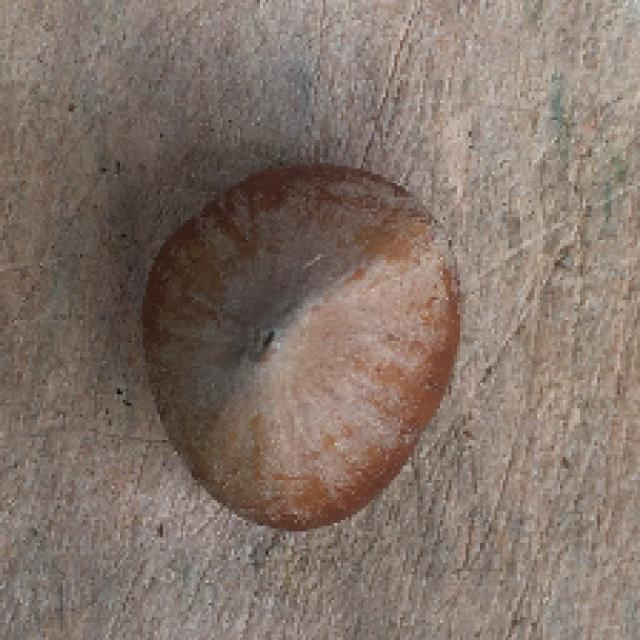qualityHazelnut: (137, 154, 460, 536)
